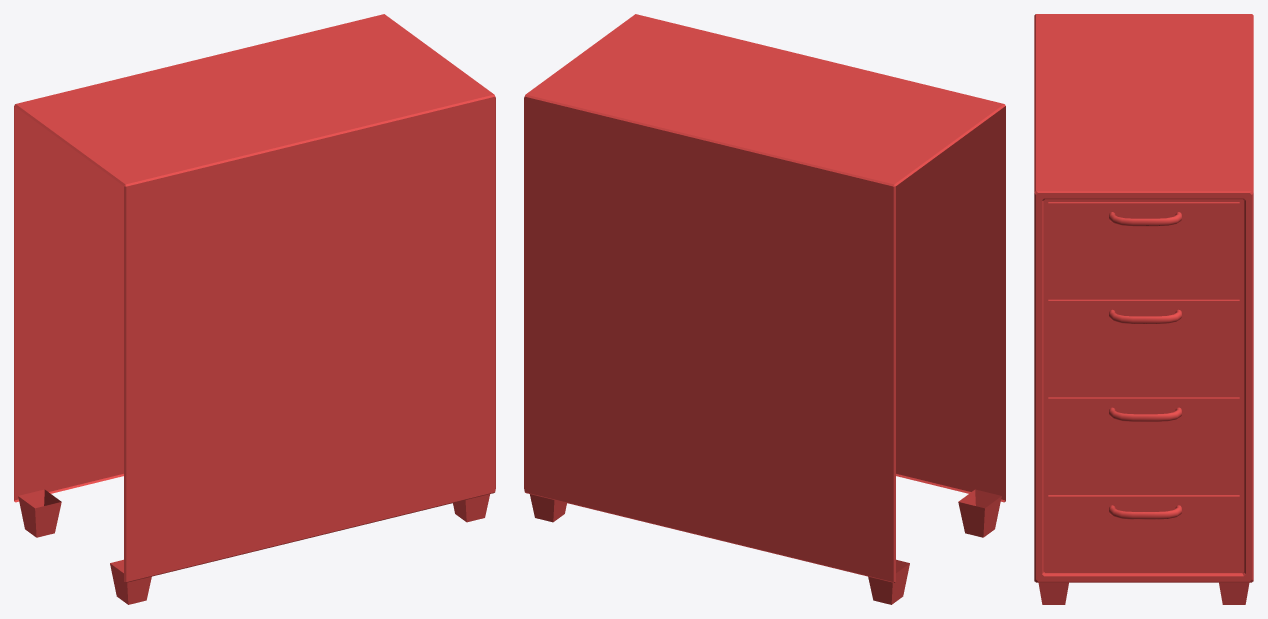
The model's file is G_Drawer_02.fbx.
3 views of the same model, side by side, from view 1: azimuth 30°, elevation 25°; view 2: azimuth 150°, elevation 25°; view 3: azimuth 270°, elevation 25° (orthographic).
Visible parts, largest first — view 1: drawer.001; view 2: drawer.001; view 3: drawer.001.
Part boxes in pixels (x1,y1,x2,y2): drawer.001: [14, 14, 495, 604]; drawer.001: [524, 14, 1005, 604]; drawer.001: [1034, 14, 1253, 604].
Bounding box in the file's own units: 1064 × 1116 × 532.
